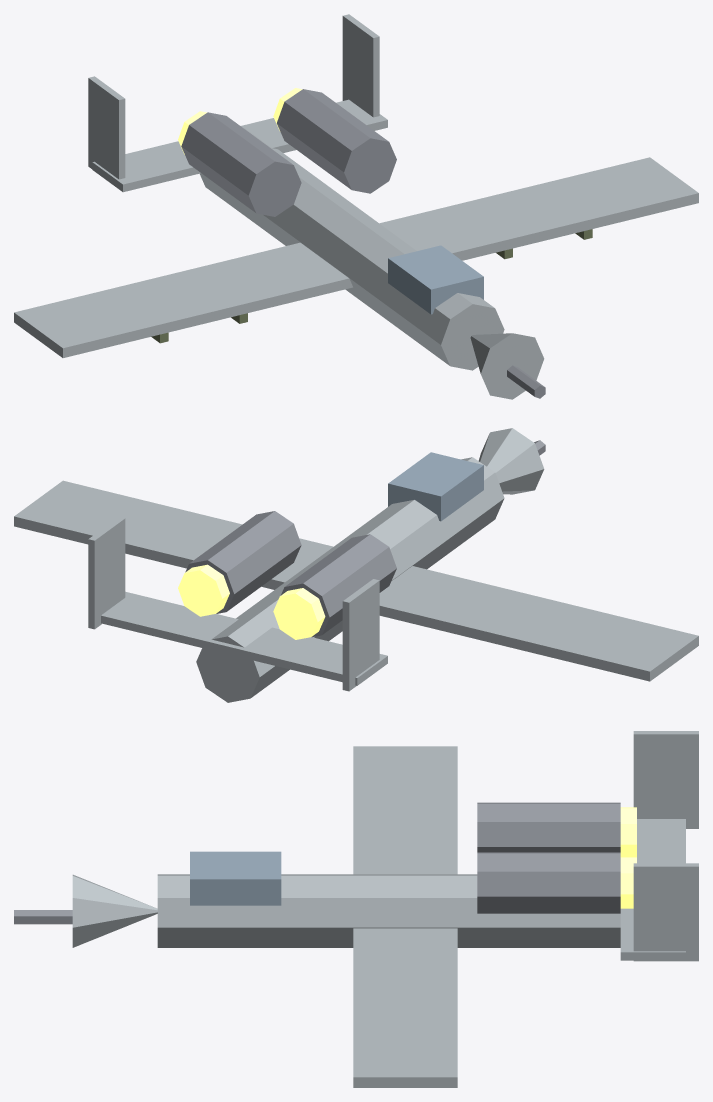
Rendered from warthog.glb.
3 renders of one model, top to bottom at view 1: azimuth 30°, elevation 25°; view 2: azimuth 150°, elevation 25°; view 3: azimuth 270°, elevation 25°, orthographic. The views are drawn at different scales.
Parts seen in each view (by area): view 1: warthog; view 2: warthog; view 3: warthog.
Boxes of the visible parts, x1,y1,x2,y2 form: warthog: (14, 14, 698, 399); warthog: (14, 428, 698, 702); warthog: (14, 731, 698, 1087).
Size of the model in its own units: 12 by 2.5 by 10.5.
